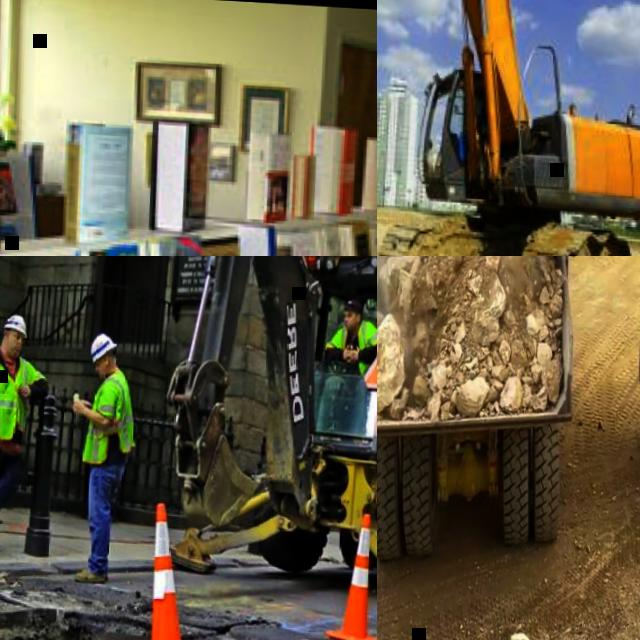Hardhat: (89, 333, 117, 363), (2, 314, 28, 336)
NO-Hardhat: (343, 297, 363, 311)
NO-Mask: (3, 339, 20, 354), (97, 361, 109, 378), (343, 316, 357, 330)
Person: (61, 332, 140, 587), (0, 311, 53, 559), (323, 296, 377, 373)
Safety Cone: (127, 502, 207, 640), (322, 514, 377, 640)
Safety Vest: (79, 368, 137, 465), (0, 353, 28, 441), (332, 320, 376, 375)
vehicle: (149, 256, 377, 618), (377, 0, 640, 256), (377, 256, 587, 576), (452, 256, 640, 561)
